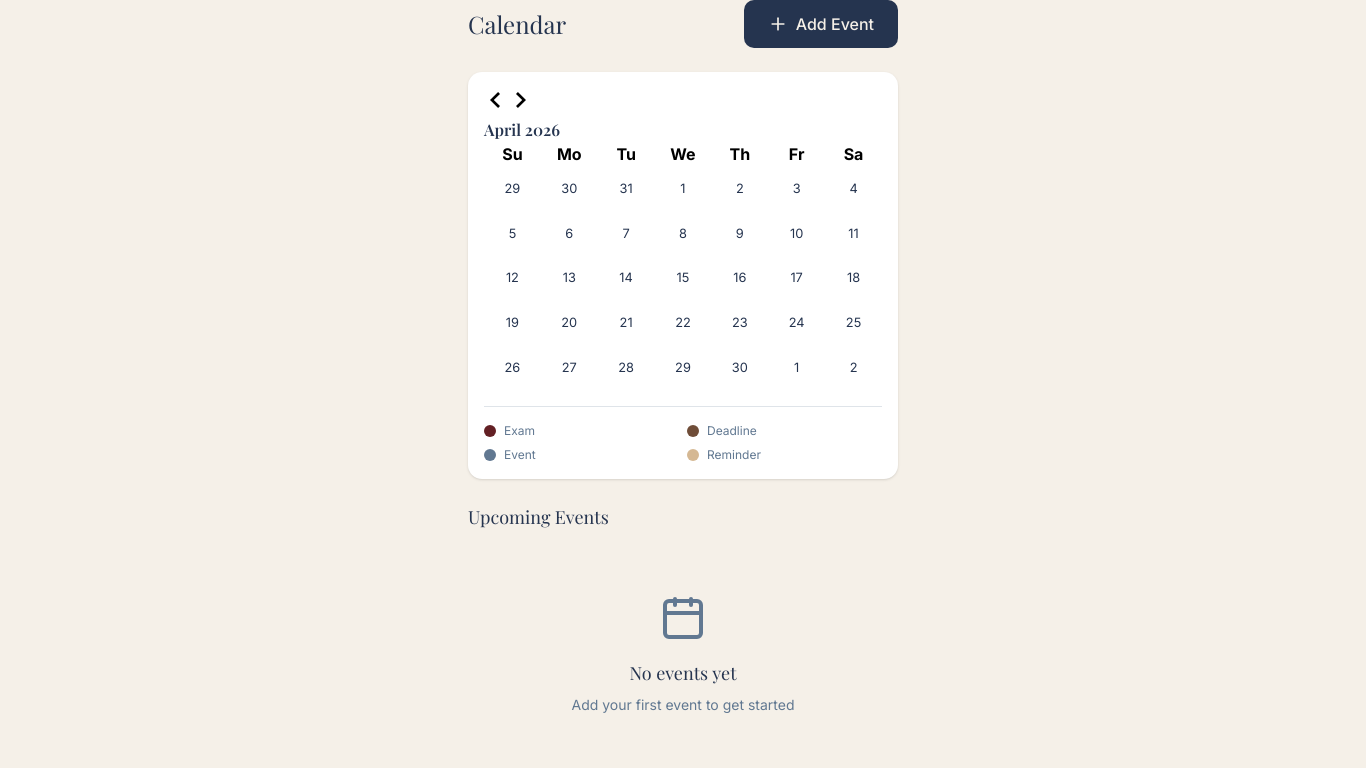
it: 25. Test calendar module › Additional calendar functionality › should close modal when clicking outside
The image size is (1366, 768).
Note: Open modal
Click the button "Add Event": (821, 24) [744,0,898,48]
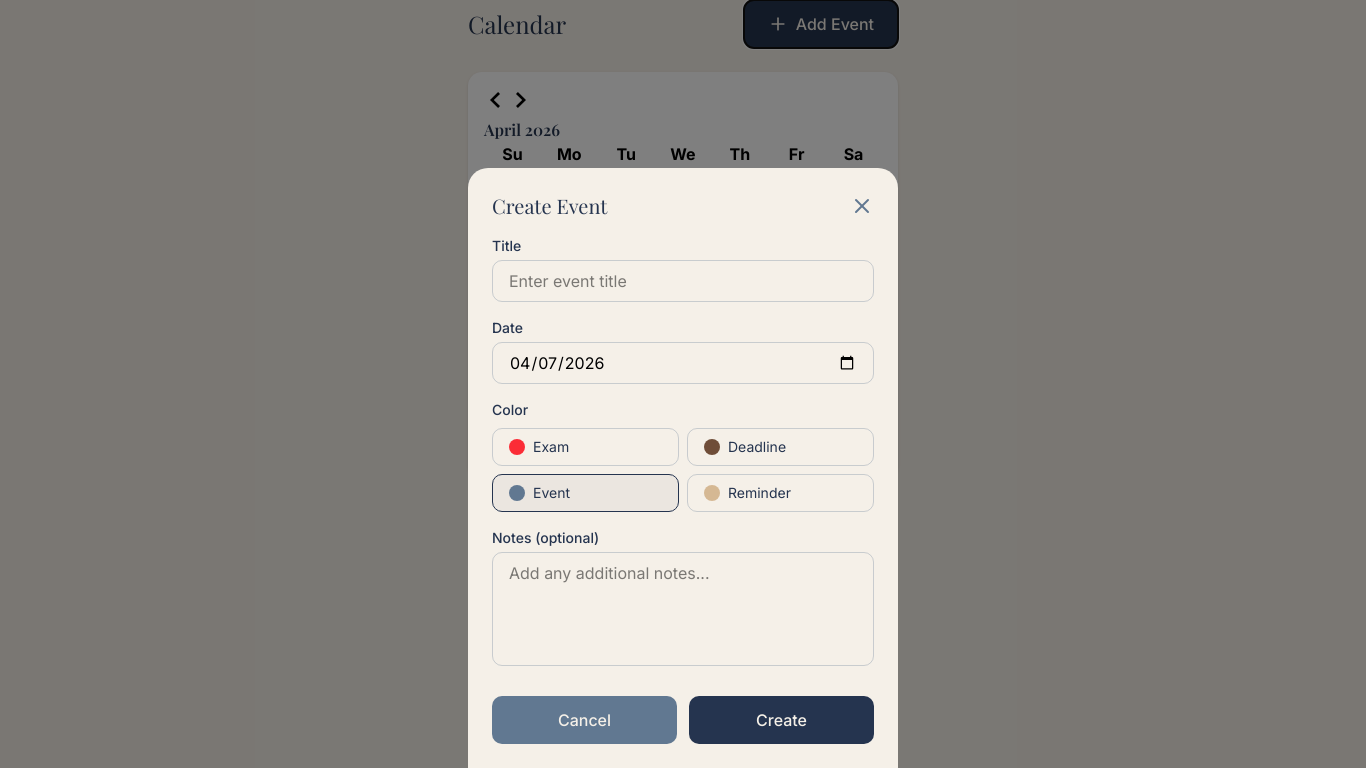
Expected: the heading "Create Event" is shown, [492,192,608,220]
Note: Close modal by clicking X button
Click the 1st button: (862, 206) [850,194,874,218]
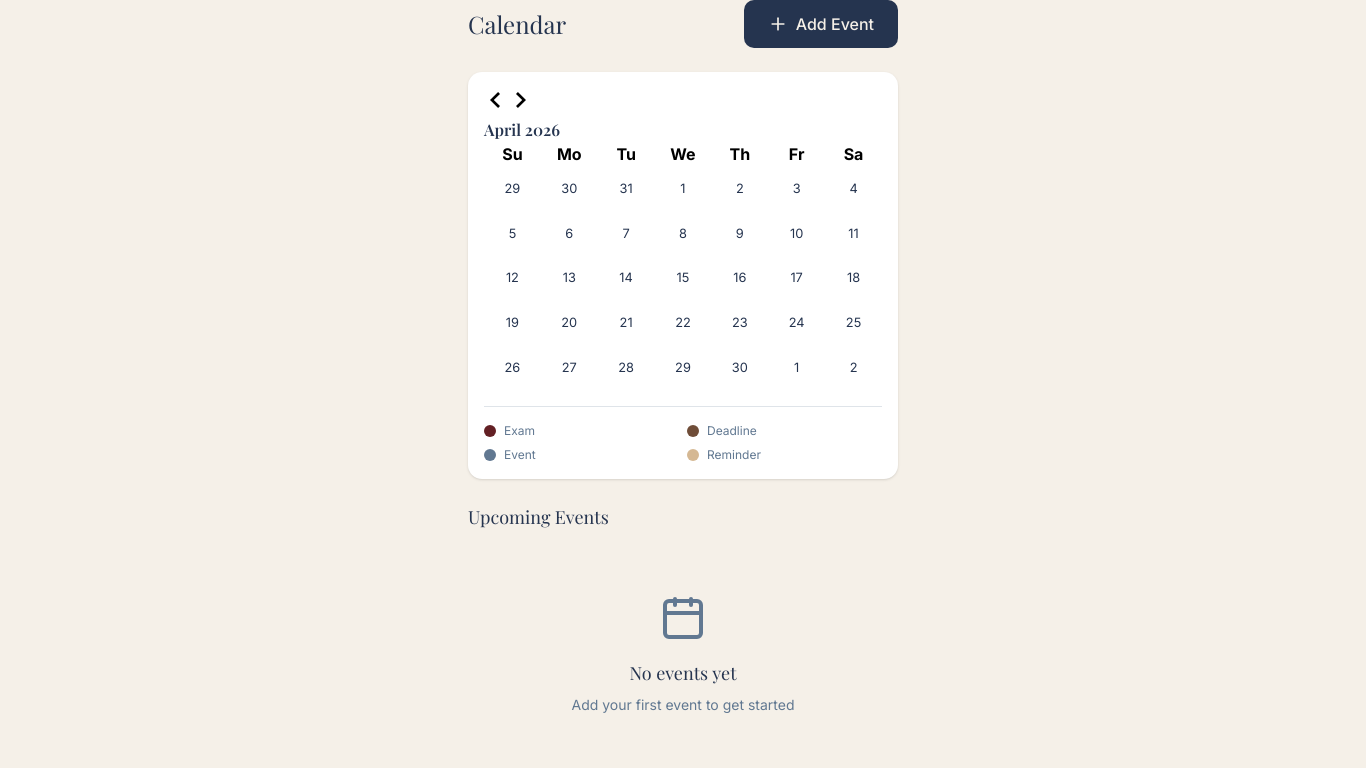
Expected: the heading "Create Event" is gone
